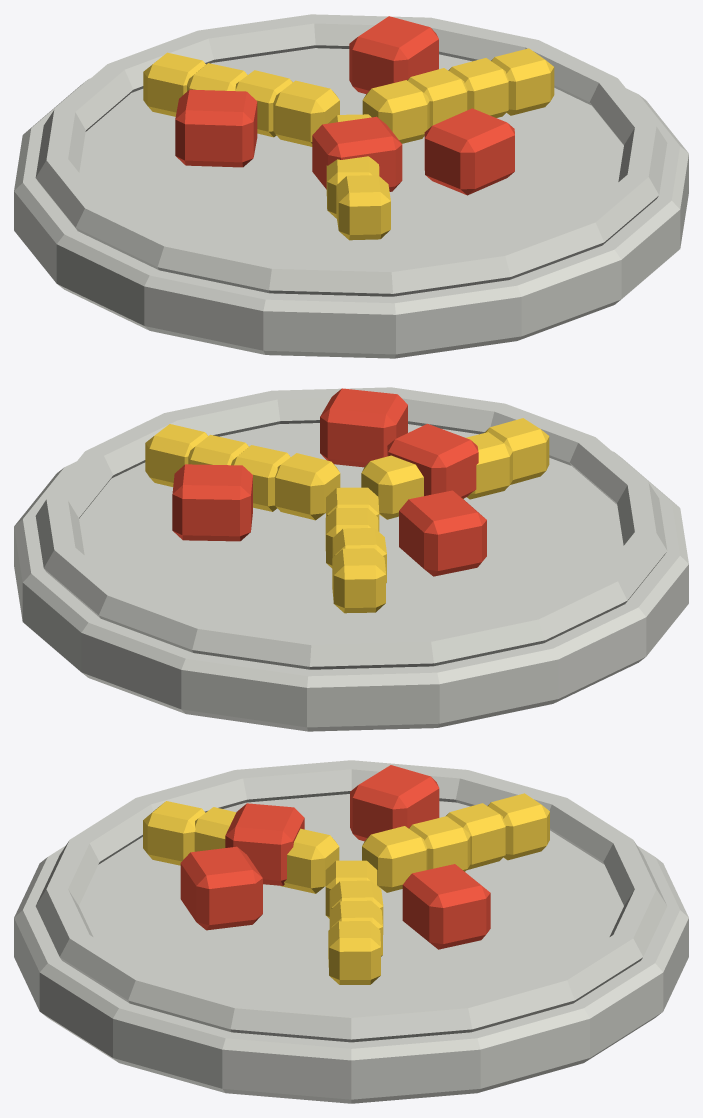
The model's file is corn_tomato_salad.glb.
The picture shows the model from 3 angles, top to bottom: view 1: azimuth 30°, elevation 25°; view 2: azimuth 150°, elevation 25°; view 3: azimuth 270°, elevation 25°; orthographic projection.
Parts seen in each view (by area): view 1: FTF_Dish_CornTomatoSalad_StaticMesh; view 2: FTF_Dish_CornTomatoSalad_StaticMesh; view 3: FTF_Dish_CornTomatoSalad_StaticMesh.
Part boxes in pixels (<box>): FTF_Dish_CornTomatoSalad_StaticMesh: <box>14,14,688,358</box>; FTF_Dish_CornTomatoSalad_StaticMesh: <box>14,387,688,731</box>; FTF_Dish_CornTomatoSalad_StaticMesh: <box>14,760,688,1103</box>.
Bounding box in the file's own units: 0.78 × 0.165 × 0.78.
